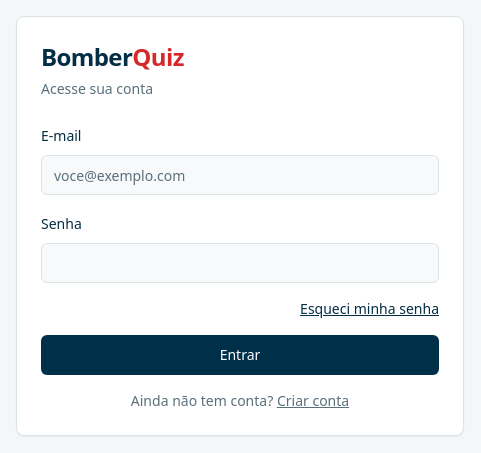
Test: LoginPage — conta desativada (PROF-RF-007 CA-3 / PROF-RF-008) › 403 account_inactive troca o formulário pela oferta de reativação
Type "bombeiro@example.com" into the field labelled "E-mail".
click(240, 175); type("bombeiro@example.com")  # box [41,155,439,195]
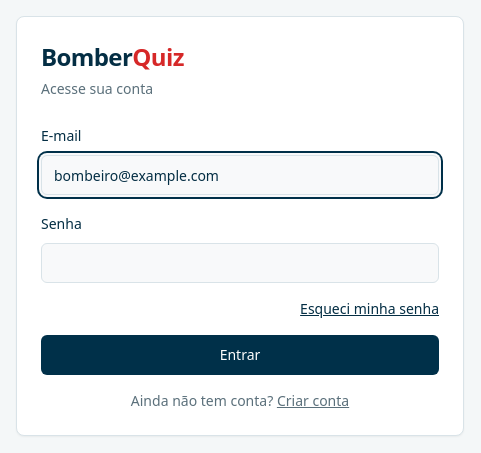
Type "senha-qualquer" into the password field labelled "Senha".
click(240, 263); type("senha-qualquer")  # box [41,243,439,283]
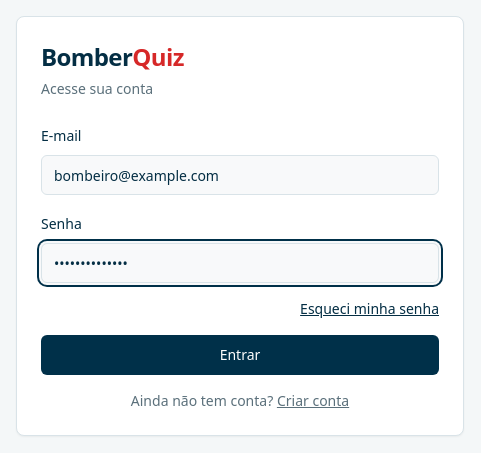
Click the button "Entrar".
click(240, 355)  # box [41,335,439,375]
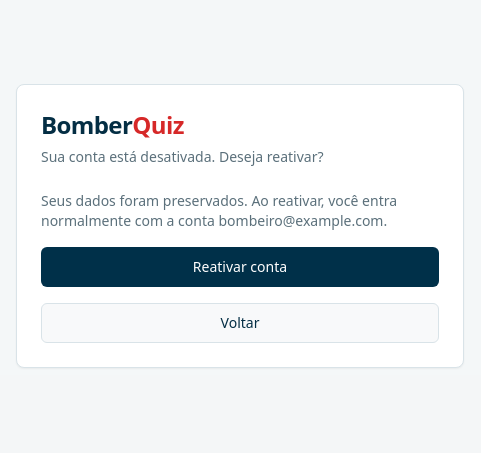
Expected: the button "Reativar conta" is shown, [41,247,439,287]
Expected: the text "Sua conta está desativada. Deseja reativar?" is shown, [41,147,324,166]
